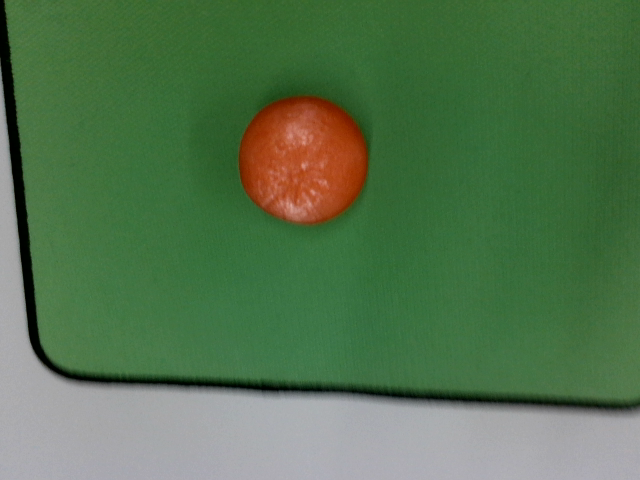orange: (239, 96, 367, 223)
